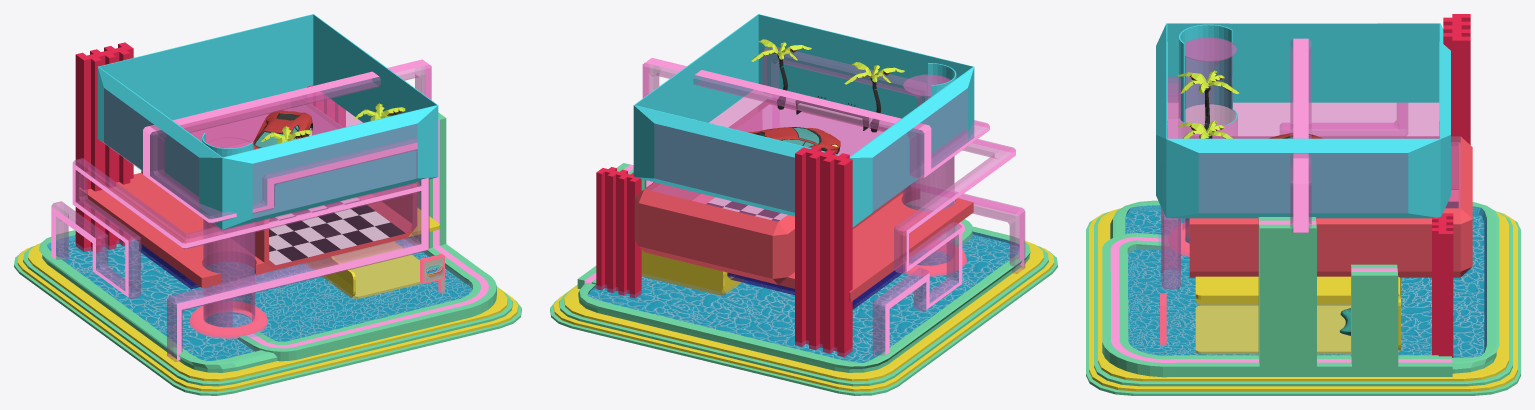
File: ultimate_party_main.glb
3 renders of one model, left to right at view 1: azimuth 30°, elevation 25°; view 2: azimuth 150°, elevation 25°; view 3: azimuth 270°, elevation 25°, orthographic. The views are drawn at different scales.
Visible parts, largest first — view 1: laberinto, tube_2, piso_3, room_2, tube_1, wall_1, tubo, piso_2, room_1, piso_4, piso_5, piso_1 (+5 smaller); view 2: laberinto, piso_3, room_2, tube_2, wall_1, wall_2, piso_2, piso_4, tubo, piso_5, piso_1, room_1 (+7 smaller); view 3: laberinto, tube_1, piso_3, room_2, tube_2, room_1, piso_2, piso_4, tubo, piso_5, piso_1, wall_2 (+4 smaller).
Boxes of the visible parts, <box> form: laberinto: <box>97,14,438,229</box>; tube_2: <box>51,59,431,361</box>; piso_3: <box>39,230,472,372</box>; room_2: <box>79,96,416,287</box>; tube_1: <box>237,112,496,361</box>; wall_1: <box>75,42,133,252</box>; tubo: <box>203,137,255,327</box>; piso_2: <box>28,243,507,381</box>; room_1: <box>304,208,439,298</box>; piso_4: <box>17,247,518,391</box>; piso_5: <box>23,245,512,386</box>; piso_1: <box>14,251,521,395</box>; laberinto: <box>633,14,974,227</box>; piso_3: <box>578,226,1030,372</box>; room_2: <box>634,99,973,302</box>; tube_2: <box>642,47,1025,357</box>; wall_1: <box>795,146,852,357</box>; wall_2: <box>596,167,641,298</box>; piso_2: <box>564,241,1043,381</box>; piso_4: <box>553,247,1054,391</box>; tubo: <box>902,74,954,265</box>; piso_5: <box>559,245,1048,386</box>; piso_1: <box>550,251,1057,395</box>; room_1: <box>641,250,743,295</box>; laberinto: <box>1156,23,1450,218</box>; tube_1: <box>1102,217,1452,377</box>; piso_3: <box>1110,200,1499,373</box>; room_2: <box>1189,136,1472,277</box>; tube_2: <box>1161,38,1407,289</box>; room_1: <box>1195,276,1400,354</box>; piso_2: <box>1098,208,1508,381</box>; piso_4: <box>1089,212,1517,391</box>; tubo: <box>1181,37,1237,243</box>; piso_5: <box>1094,212,1512,386</box>; piso_1: <box>1086,220,1520,395</box>; wall_2: <box>1432,213,1453,357</box>.
Size of what is drawn, in the model's own units: 31 by 17.93 by 31.
18 materials, 12 textured.
